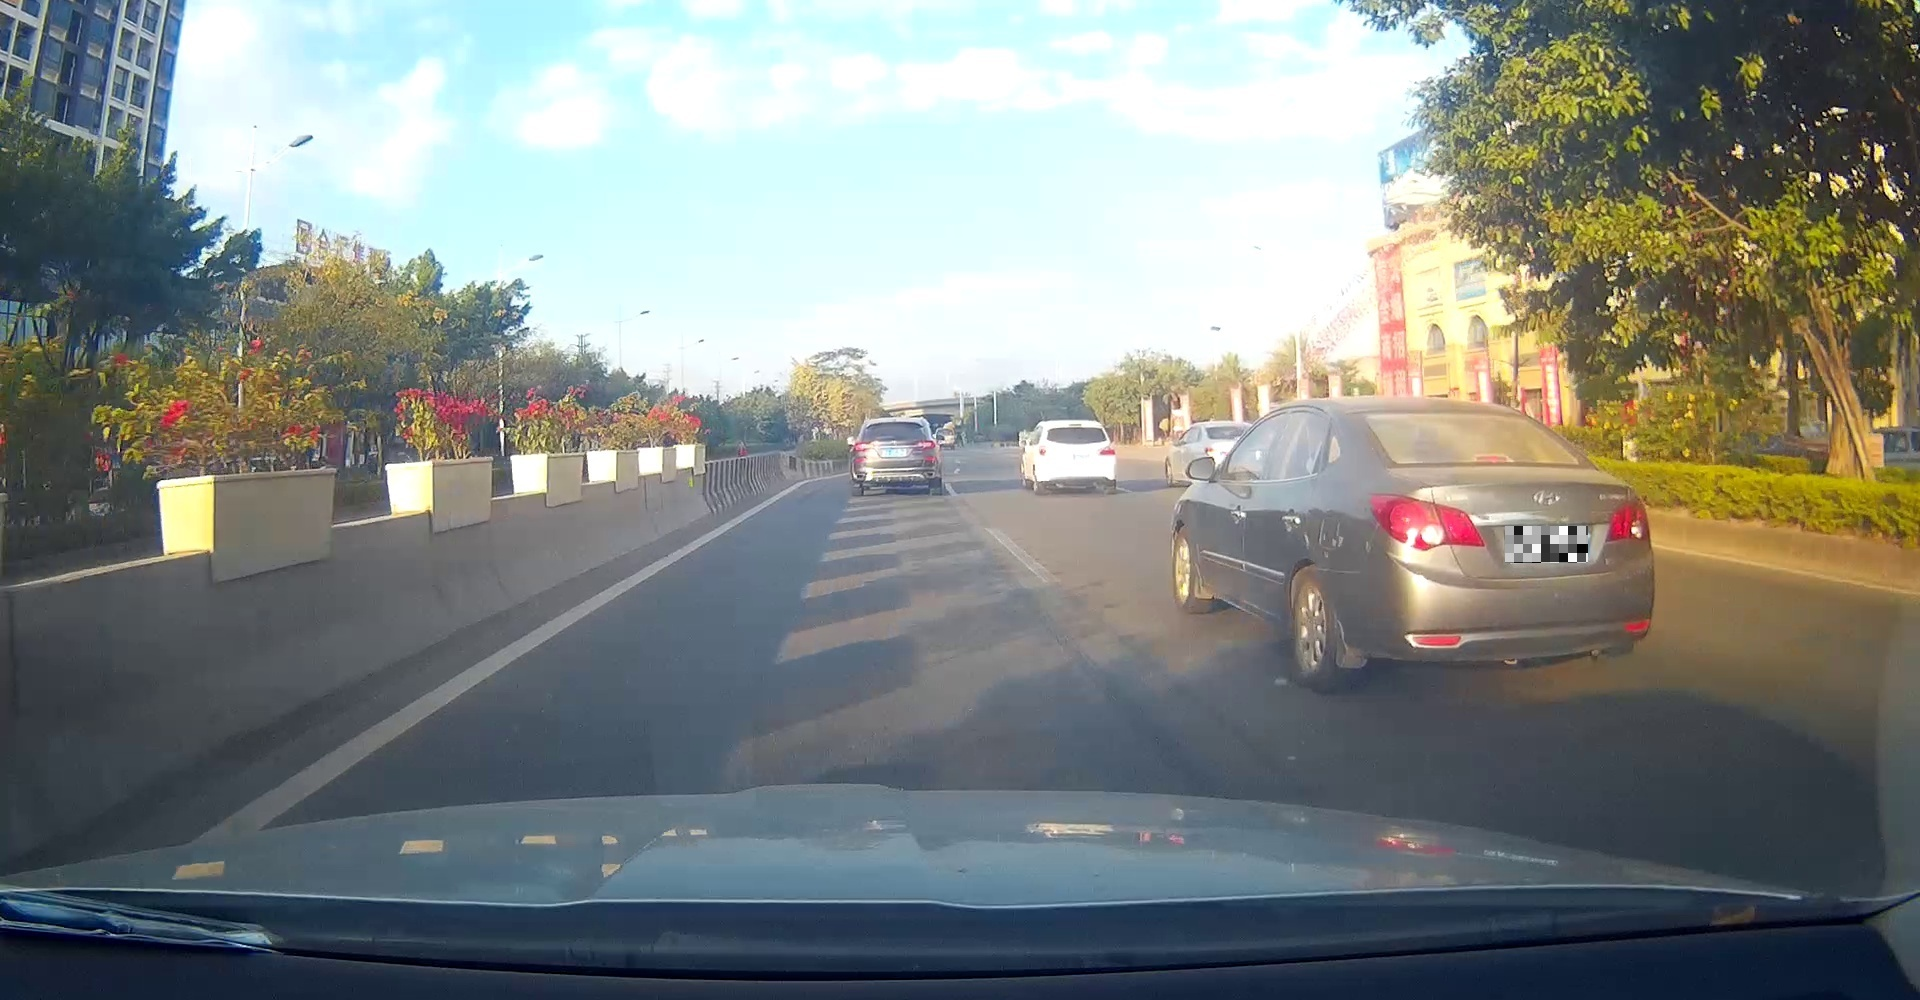L_light: (1366, 492, 1486, 551), (1036, 445, 1054, 456), (852, 442, 871, 451)
R_light: (1604, 497, 1650, 542), (914, 442, 935, 451), (1100, 445, 1115, 456)
T_light: (1474, 454, 1512, 464), (1068, 423, 1082, 428), (888, 420, 904, 423)
day-no: (1346, 397, 1655, 687), (850, 418, 943, 495), (1035, 420, 1117, 494)
plate_1: (1505, 525, 1589, 563)
